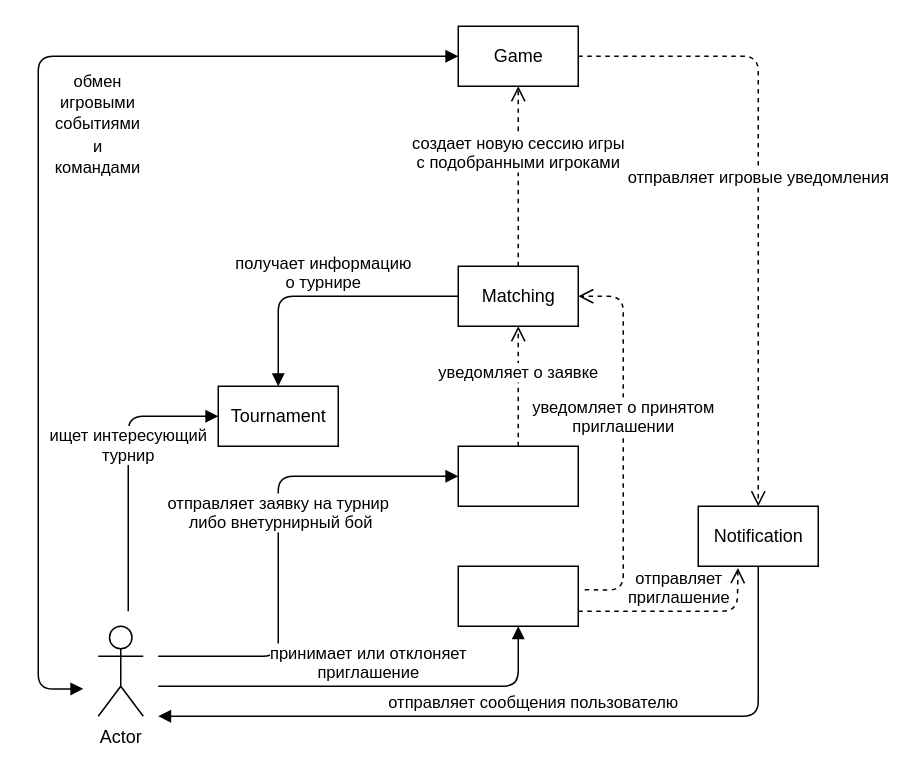
Some shapes in this 915 by 774 pixel diagram are drawn without their labels. The shapes that lost their labels are listed below. From the top down, each one's centre as x and y in pixels, then its label:
(517,475): Claim
(517,595): Invite
